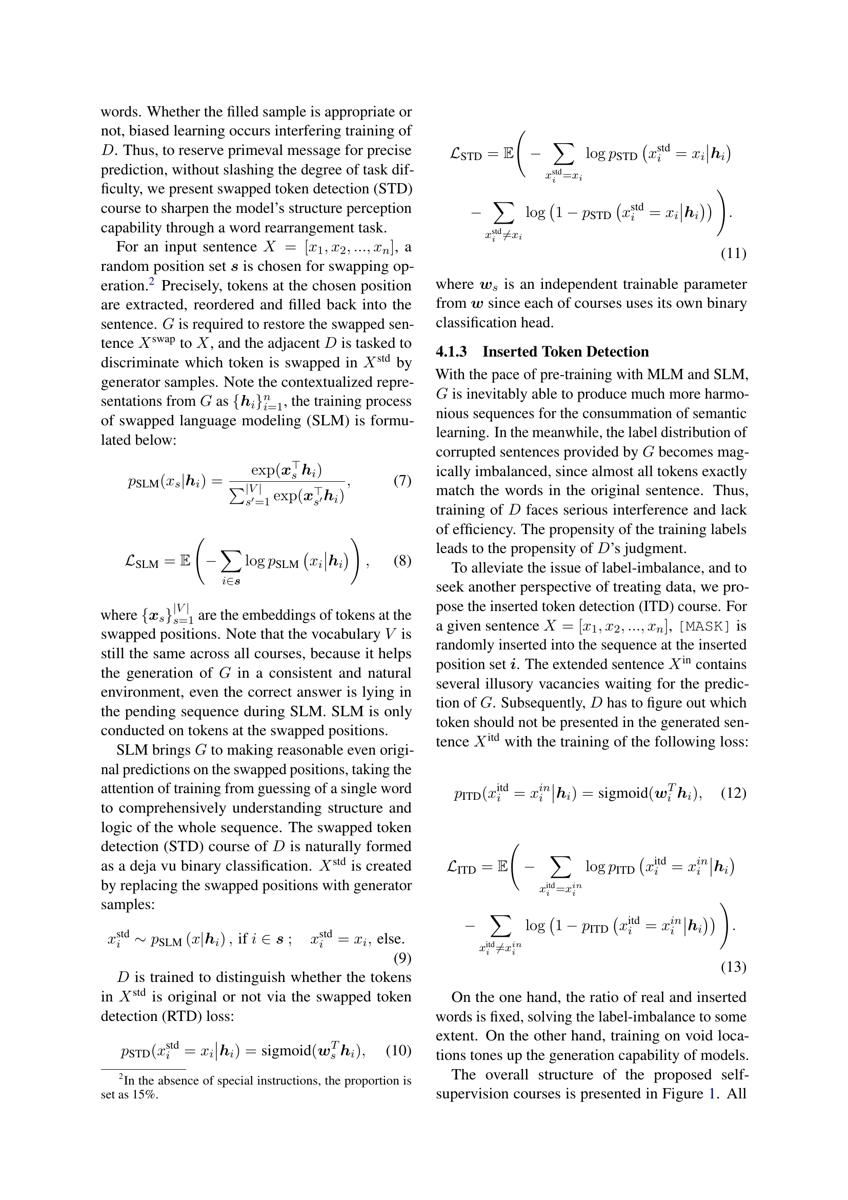text: (95, 100, 418, 592), (430, 340, 753, 753), (430, 778, 753, 1107), (95, 741, 416, 1065), (430, 125, 752, 333), (95, 605, 416, 741)
